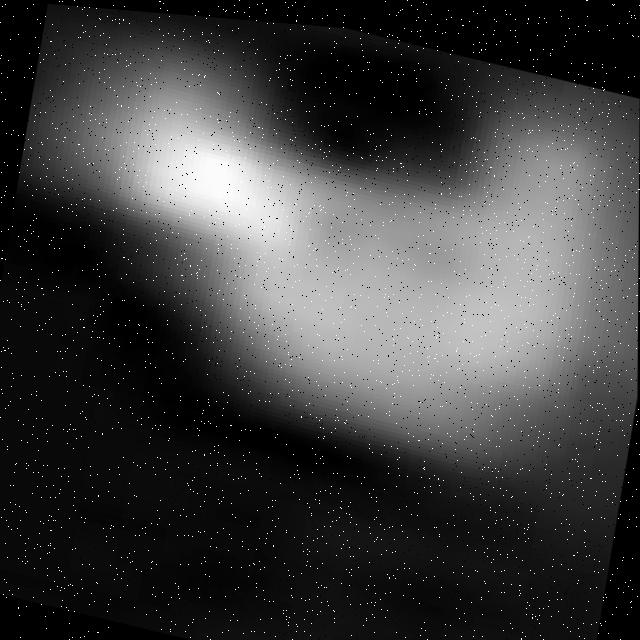person: (1, 1, 640, 499)
